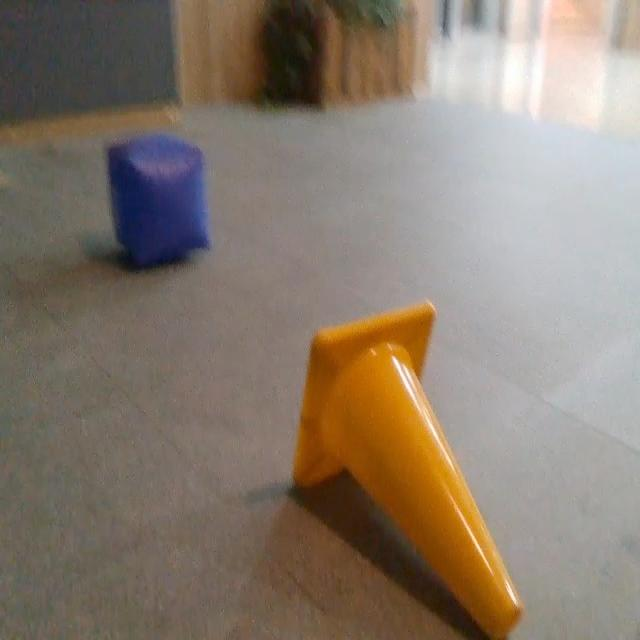cone: (286, 296, 526, 639)
cube: (111, 132, 209, 267)
